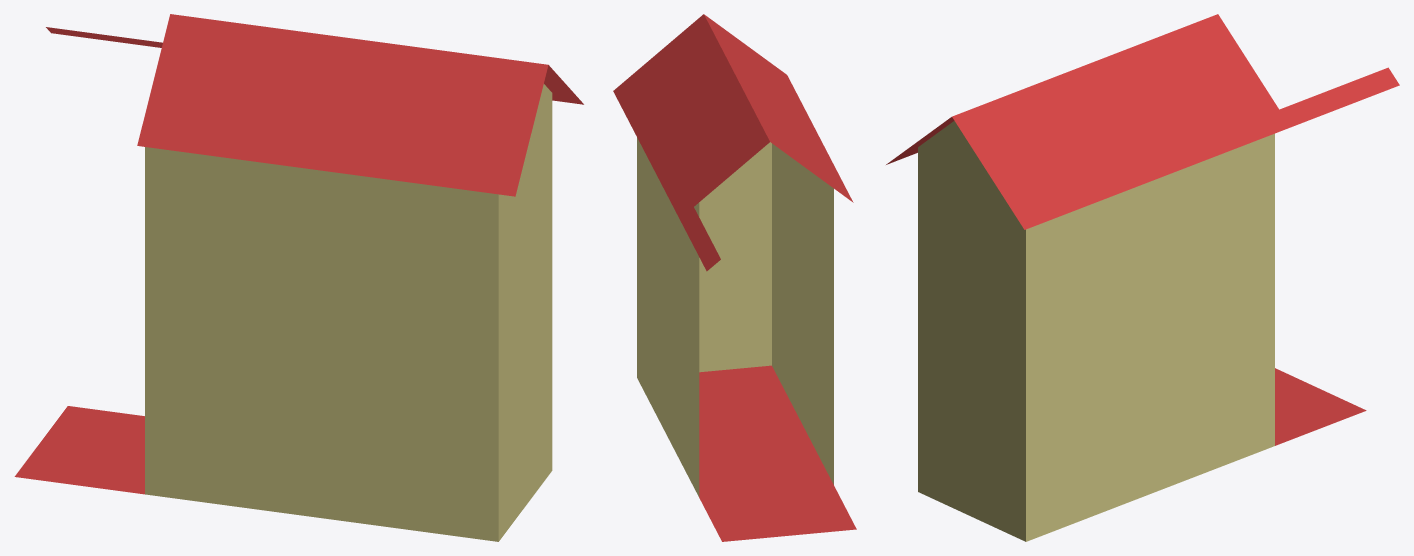
3 views of the same model, side by side, from view 1: azimuth 30°, elevation 25°; view 2: azimuth 150°, elevation 25°; view 3: azimuth 270°, elevation 25° (orthographic). The views are drawn at different scales.
Bounding box in the file's own units: 9.87 × 11 × 9.56.
